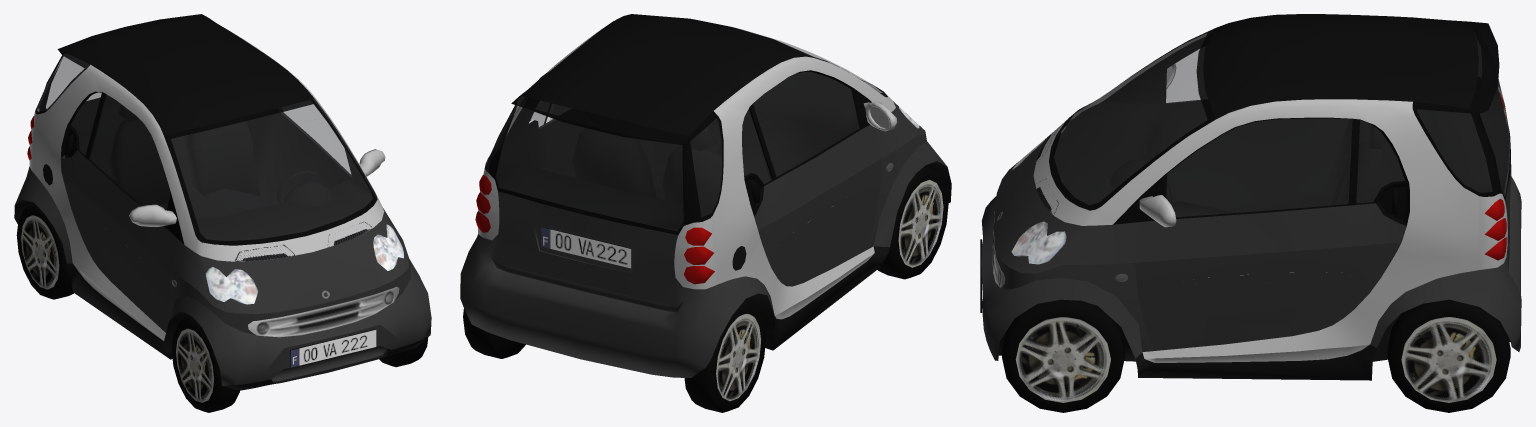
Rendered from smart-car.obj.
The picture shows the model from 3 angles, left to right: view 1: azimuth 30°, elevation 25°; view 2: azimuth 150°, elevation 25°; view 3: azimuth 270°, elevation 25°; orthographic projection. The views are drawn at different scales.
Visible parts, largest first — view 1: smart-car_Plane, interior-car_Plane.004, textured-items_Plane.002; view 2: smart-car_Plane, interior-car_Plane.004, textured-items_Plane.002; view 3: smart-car_Plane, interior-car_Plane.004, textured-items_Plane.002.
Part boxes in pixels (<box>): smart-car_Plane: <box>14,14,431,412</box>; interior-car_Plane.004: <box>39,58,372,240</box>; textured-items_Plane.002: <box>21,215,403,402</box>; smart-car_Plane: <box>460,14,951,412</box>; interior-car_Plane.004: <box>496,71,858,231</box>; textured-items_Plane.002: <box>541,107,943,401</box>; smart-car_Plane: <box>981,14,1521,412</box>; interior-car_Plane.004: <box>1053,36,1509,217</box>; textured-items_Plane.002: <box>980,126,1496,402</box>.
Bounding box in the file's own units: 171 × 155 × 253.
13 materials, 1 textured.
